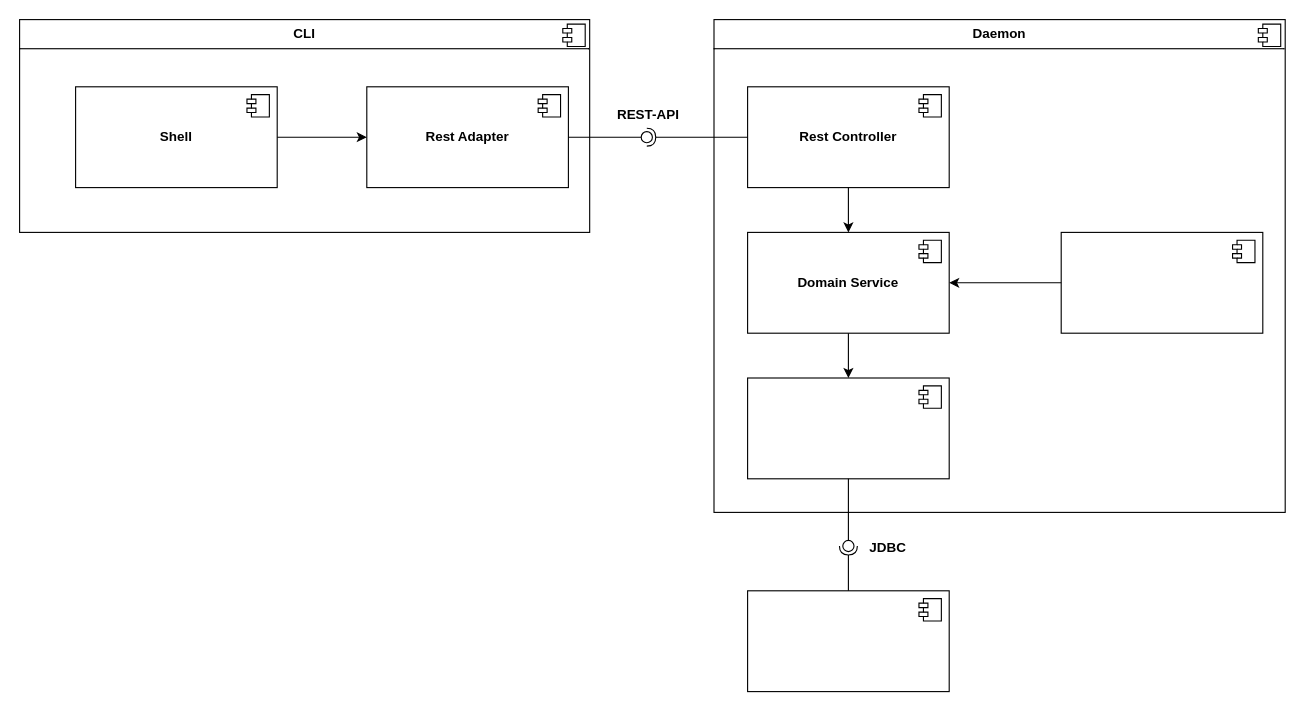
This 1305x711 diagram has some shape labels left out. The shapes that lost their labels are listed below. From the top down, each one's centre as x and y in pixels, then its label:
the point at 1161,282: Monitoring Scheduler
the point at 847,428: Repository
the point at 847,641: Embedded Database
